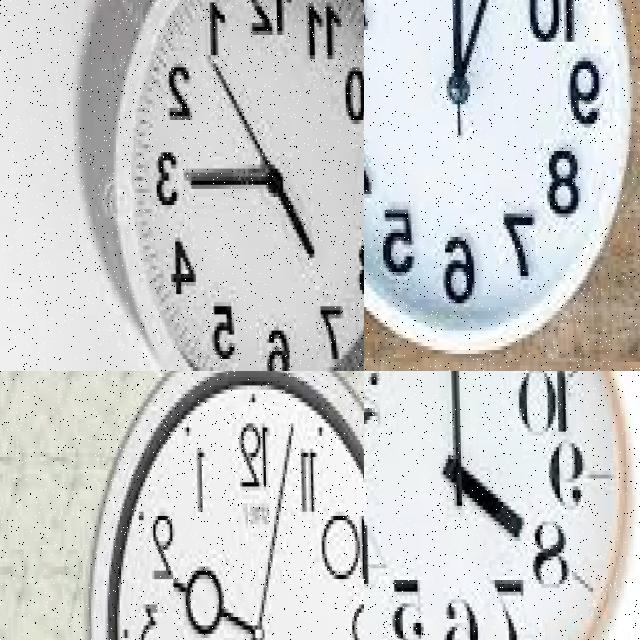Clocks-images: (109, 1, 365, 372), (365, 1, 631, 353), (82, 372, 365, 640), (365, 372, 635, 640)
